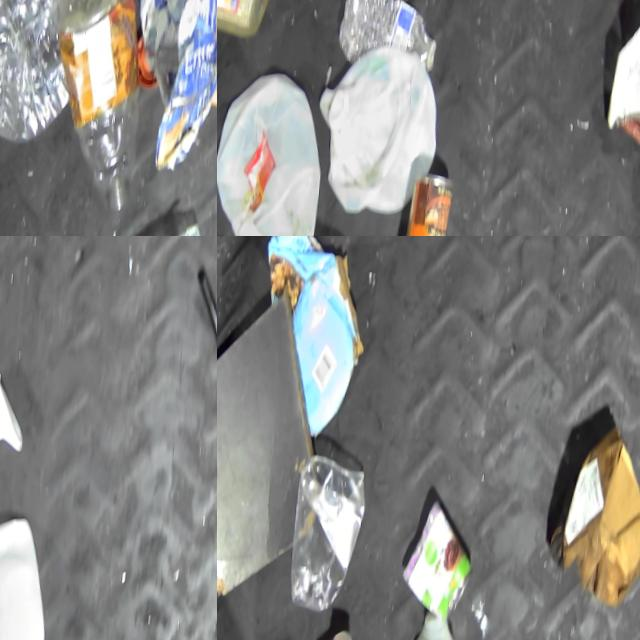can: (403, 494, 478, 627)
milk_jug: (316, 68, 438, 227), (217, 82, 331, 236), (0, 522, 56, 640), (397, 606, 485, 640), (277, 620, 363, 640)
plastic_bottle: (336, 0, 441, 84)
